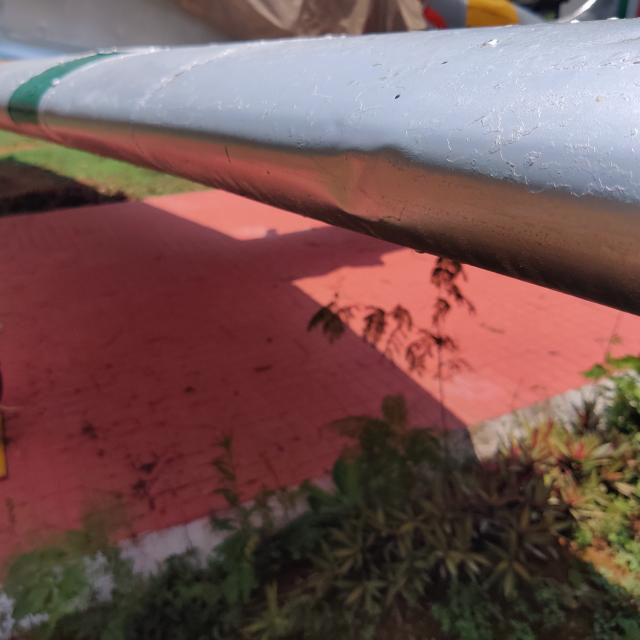dent: (312, 120, 424, 246)
